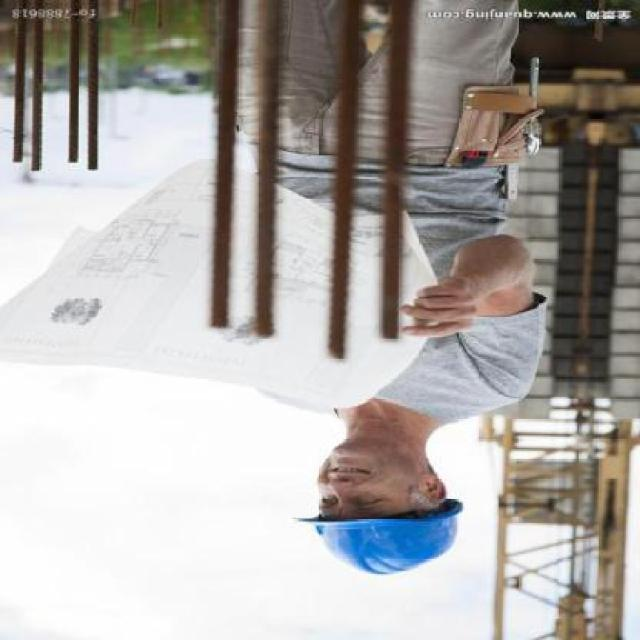safetyhelmet: (295, 438, 464, 576)
